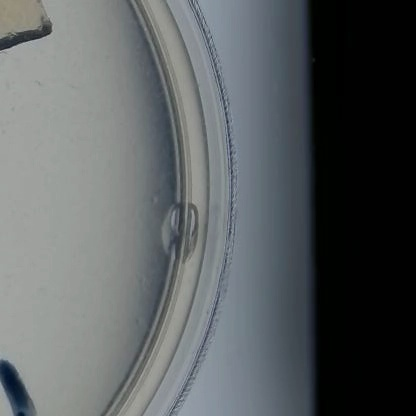worm: (34, 77, 45, 92)
